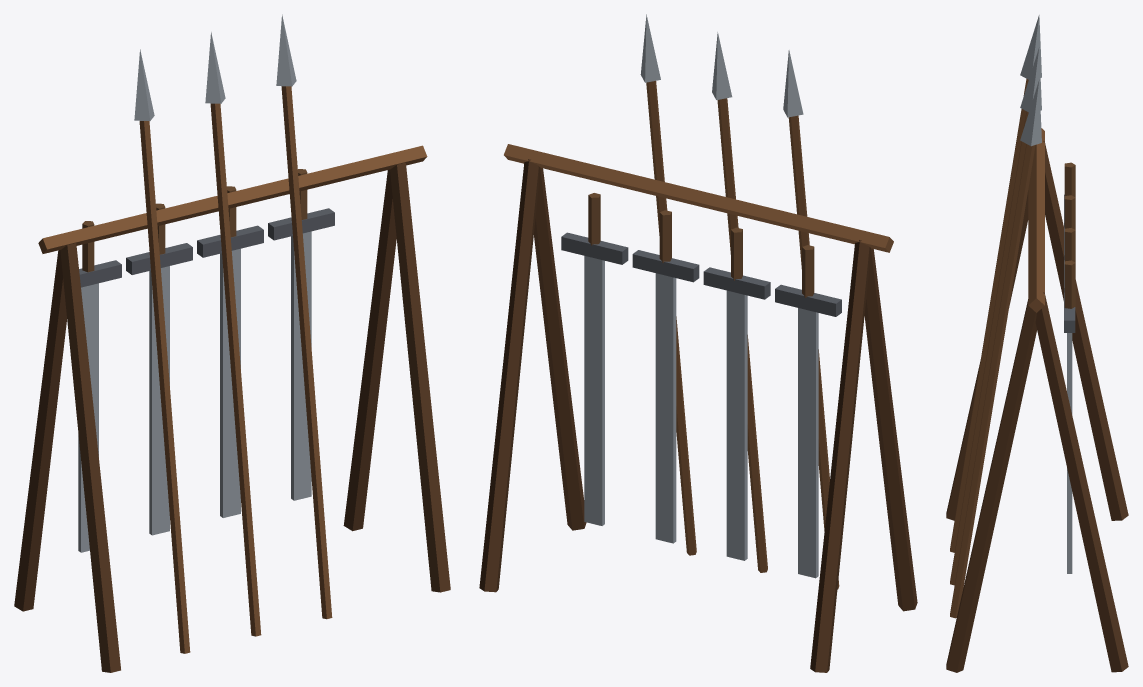
Rendered from pile_weapons_2.glb.
3 renders of one model, left to right at view 1: azimuth 30°, elevation 25°; view 2: azimuth 150°, elevation 25°; view 3: azimuth 270°, elevation 25°, orthographic. The views are drawn at different scales.
Parts seen in each view (by area): view 1: pile_weapons_2; view 2: pile_weapons_2; view 3: pile_weapons_2.
Boxes of the visible parts, x1,y1,x2,y2 form: pile_weapons_2: [14, 14, 450, 672]; pile_weapons_2: [479, 14, 917, 672]; pile_weapons_2: [946, 15, 1128, 672].
Bounding box in the file's own units: 1.5 × 2.16 × 0.6621.
